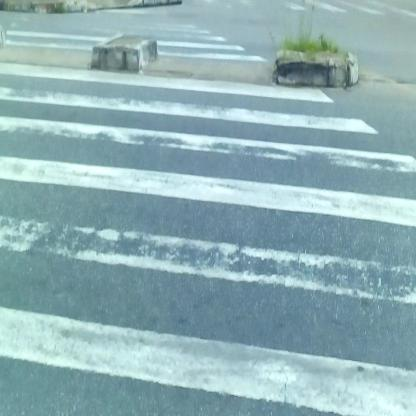crosswalk: (7, 22, 381, 416)
